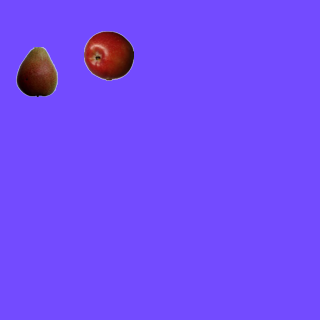Apple Braeburn: (83, 30, 133, 80)
Pear Forelle: (11, 46, 61, 96)
